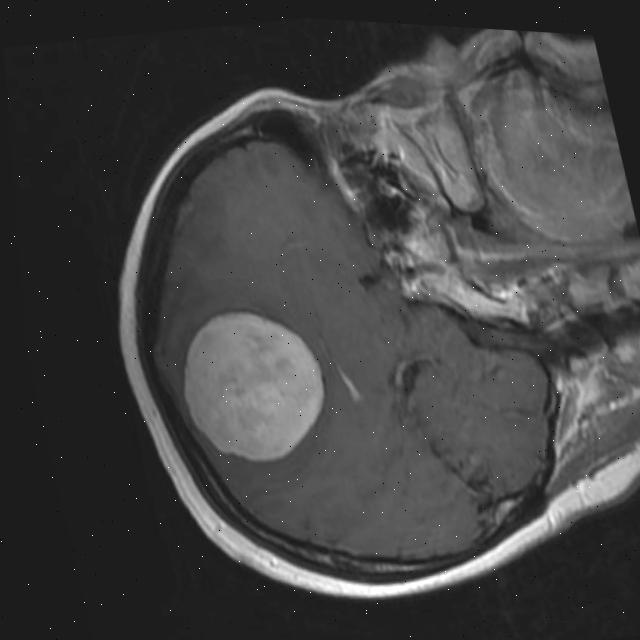Meningioma: (163, 291, 342, 475)
